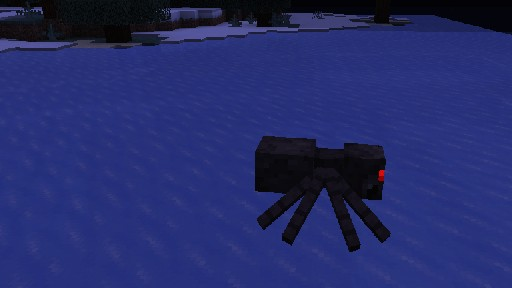spider: (254, 134, 391, 252)
